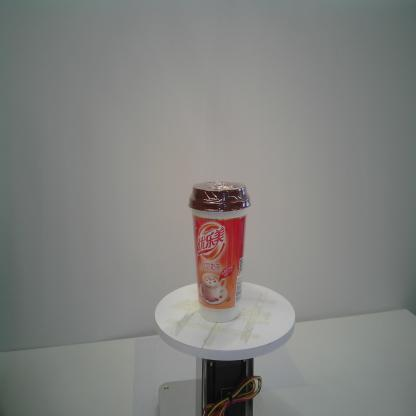Instant Drink: (187, 180, 252, 323)
